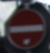No entry: (5, 6, 45, 48)
